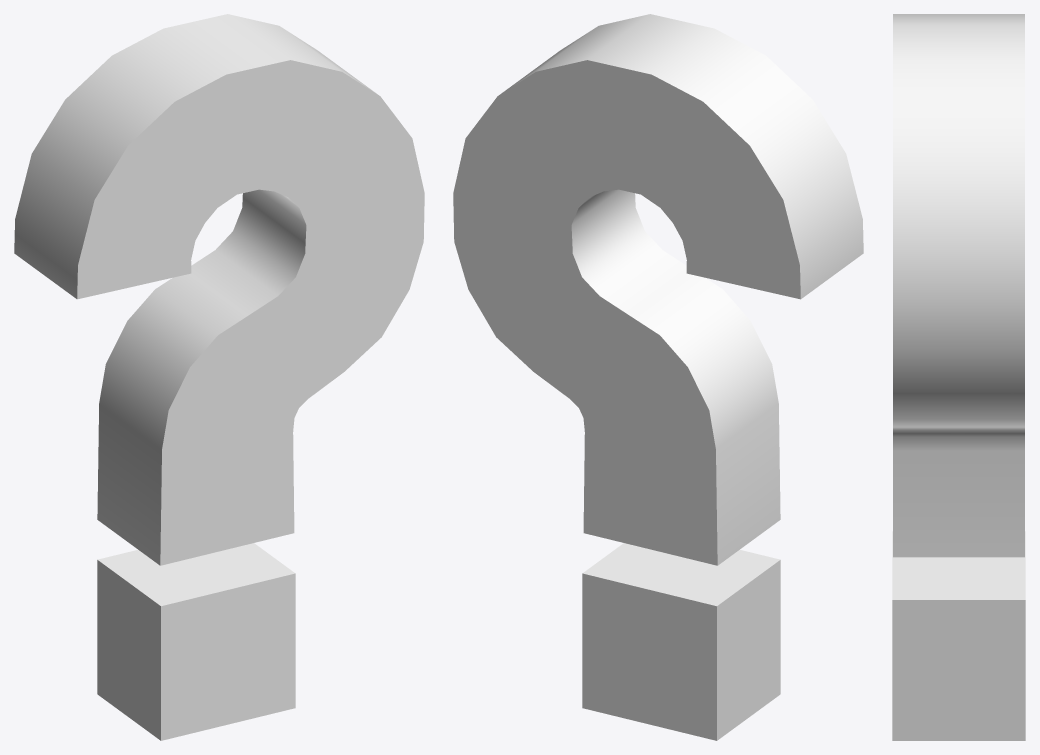
Rendered from white_question_mark.glb.
3 renders of one model, left to right at view 1: azimuth 30°, elevation 25°; view 2: azimuth 150°, elevation 25°; view 3: azimuth 270°, elevation 25°, orthographic. The views are drawn at different scales.
Visible parts, largest first — view 1: Cube.6447; view 2: Cube.6447; view 3: Cube.6447.
Part boxes in pixels (x1,y1,x2,y2): Cube.6447: (14, 14, 424, 740); Cube.6447: (453, 14, 863, 740); Cube.6447: (892, 14, 1025, 740).
Size of the model in its own units: 1.19 by 2.12 by 0.3762.
Materials: 1 (1 with a texture image).
